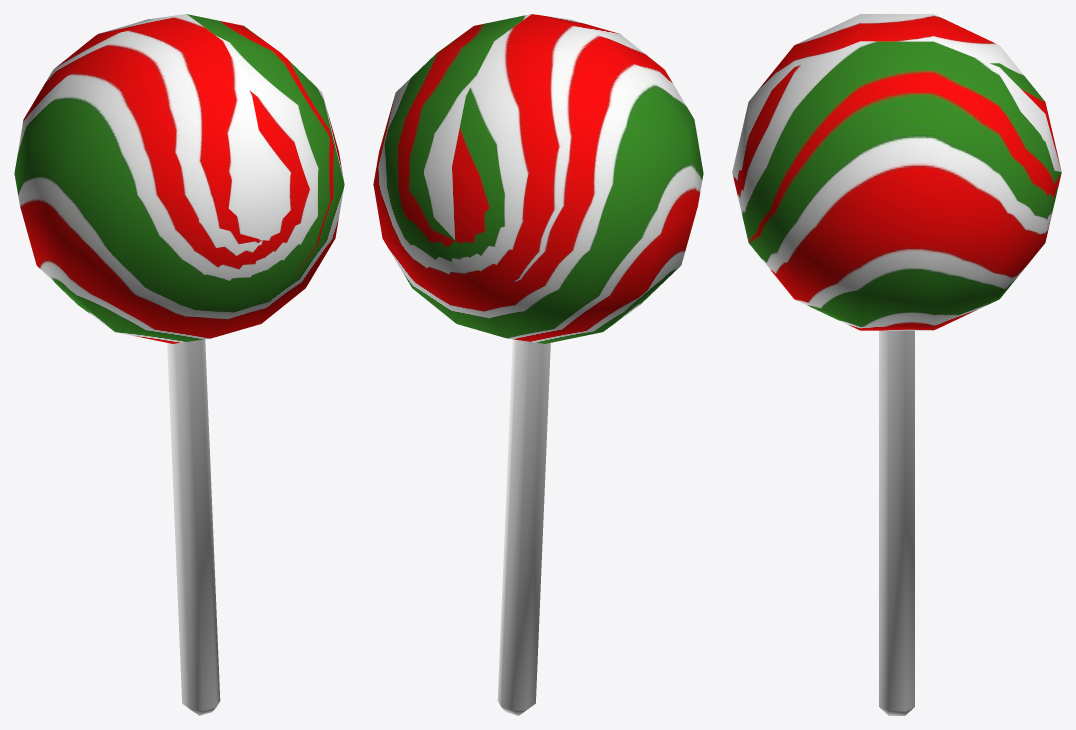
The model's file is CANDIES02.FBX.
3 renders of one model, left to right at view 1: azimuth 30°, elevation 25°; view 2: azimuth 150°, elevation 25°; view 3: azimuth 270°, elevation 25°, orthographic.
Parts seen in each view (by area): view 1: Sphere002; view 2: Sphere002; view 3: Sphere002.
Part boxes in pixels (<box>): Sphere002: <box>14,14,344,715</box>; Sphere002: <box>373,14,703,715</box>; Sphere002: <box>732,14,1061,715</box>.
Size of the model in its own units: 490 by 1134 by 503.
Materials: 2 (1 with a texture image).
